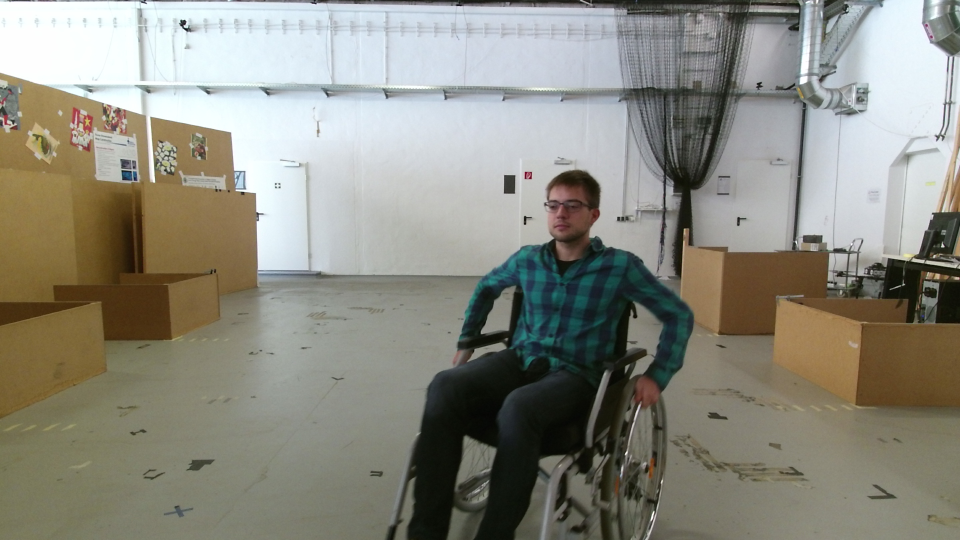wheelchair: (398, 162, 728, 540)
